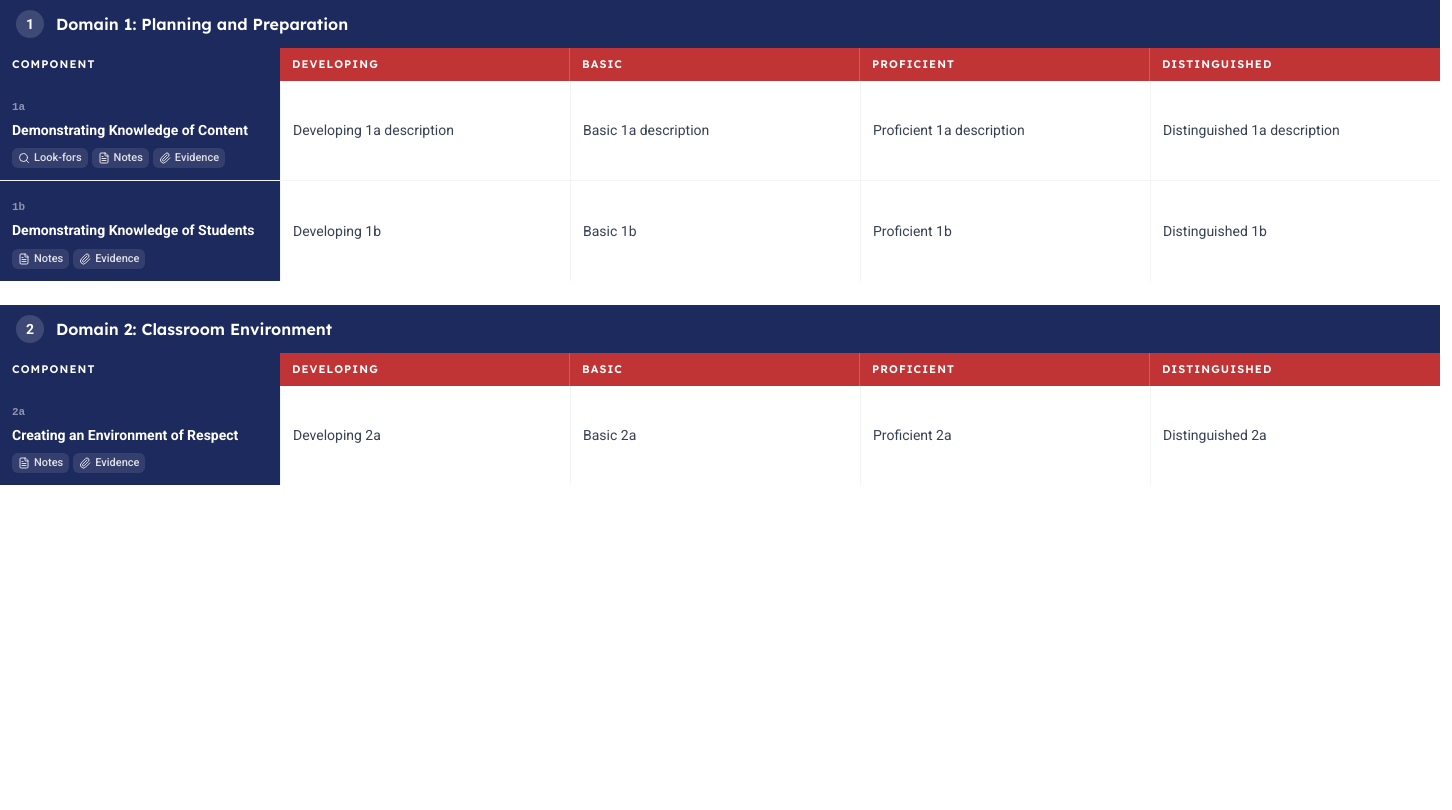
Test case: <RubricGrid> edit mode › the look-fors checklist is a labeled group of real checkboxes
Click the button "Look-fors" at (50, 158), box [12,148,88,168]
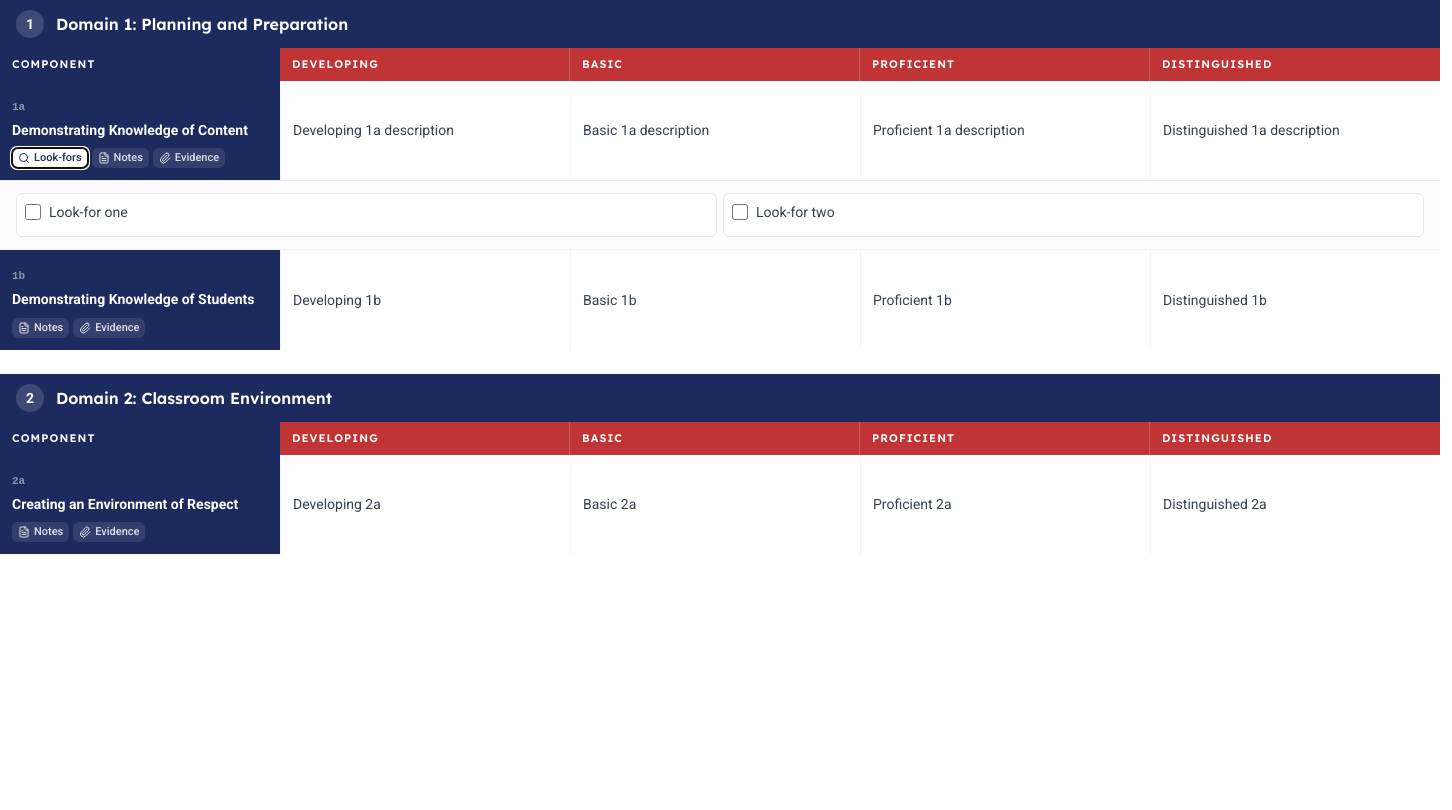
Result: the number of checkboxes is 2 at [25,204,41,220]; [732,204,748,220]
